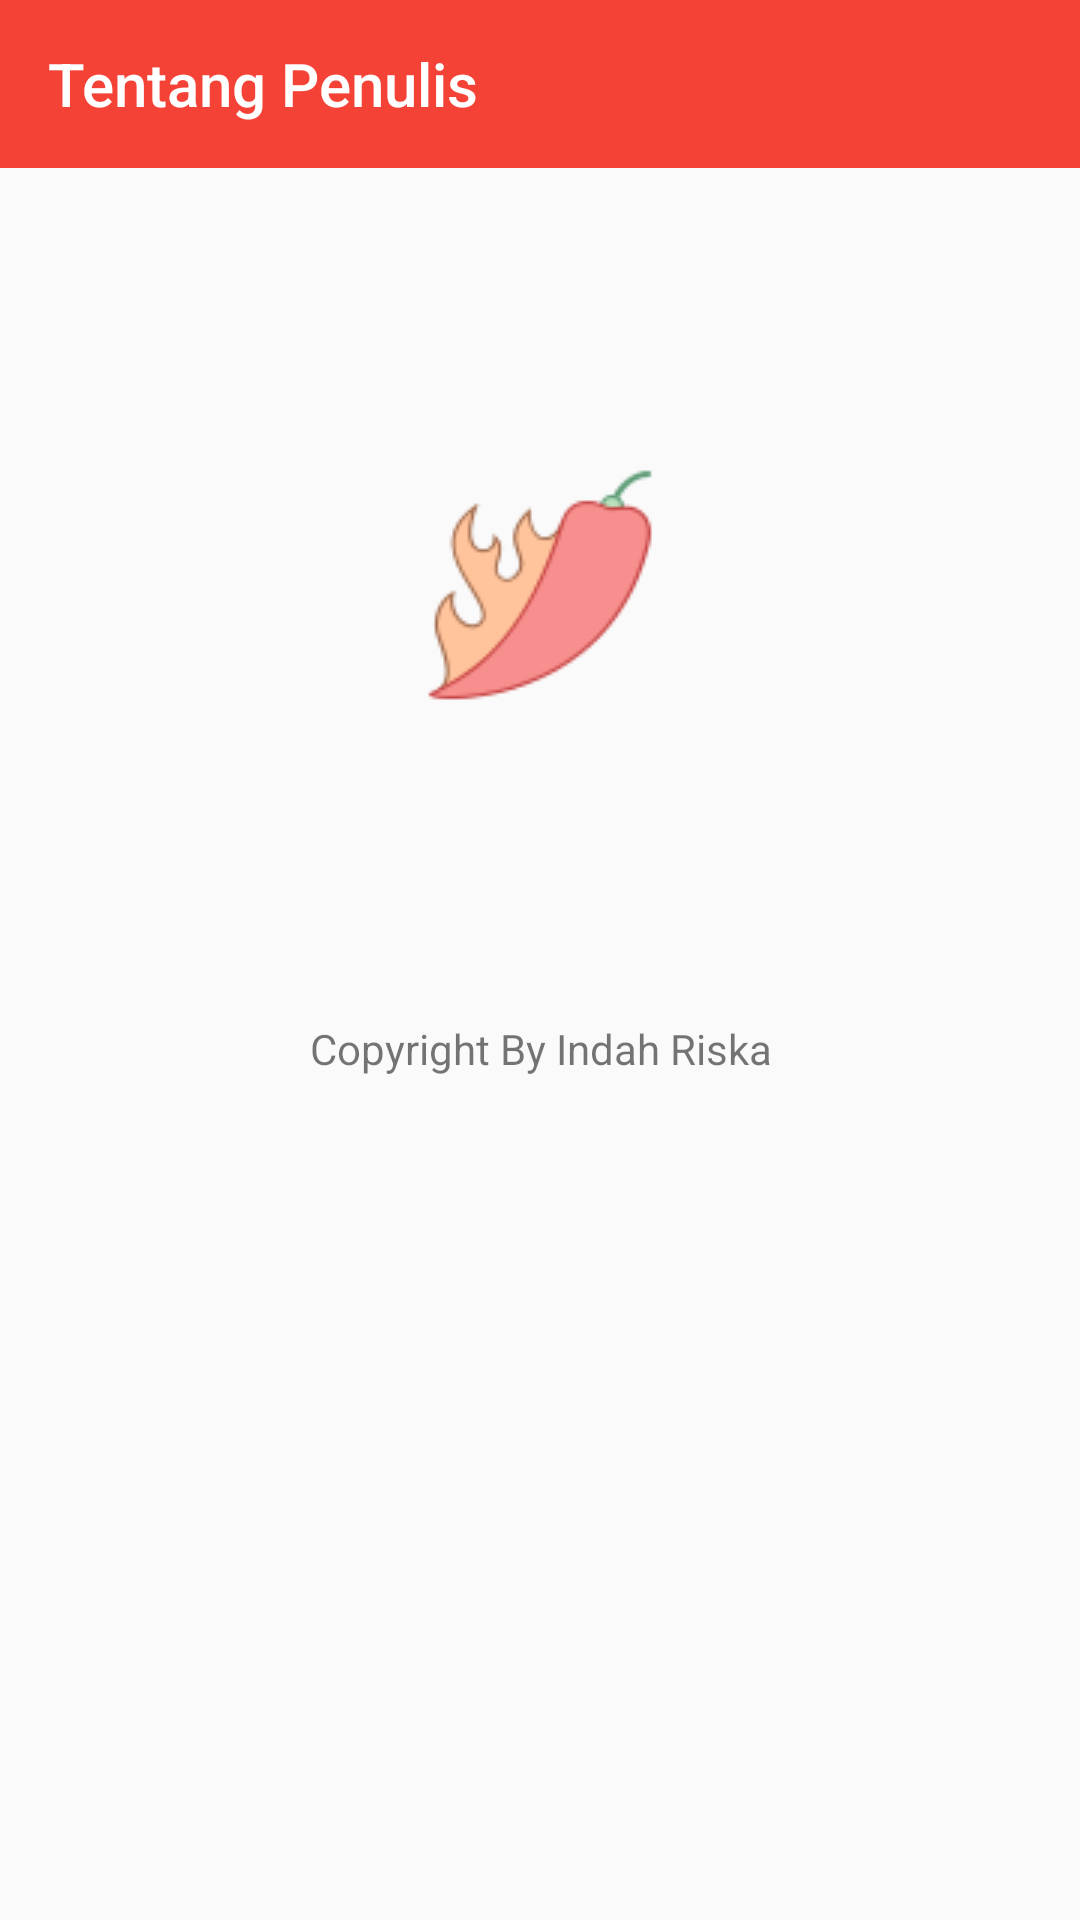

Where to tap for icons on this 1080px×1920px app screen, as point (x, y):
chili: point (540, 585)
